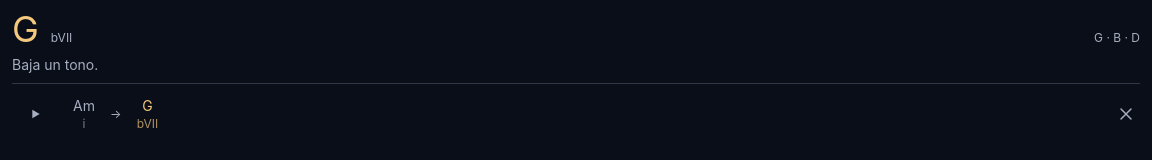
it: El acorde actual › el mismo botón la calla: parar aparte obliga a apuntar a otro sitio
What coordinates should you click on to do the following:
click the button named "escuchar lo que estás probando"
I would click on:
 (35, 114)
Its box is [12,92,58,136].
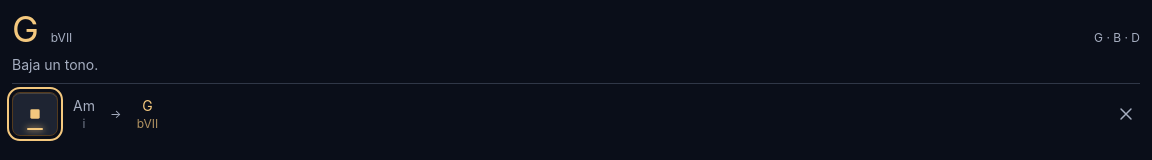
What coordinates should you click on to do the following:
click the button named "parar lo que estás probando"
I would click on:
 (35, 114)
Its box is [12,92,58,136].
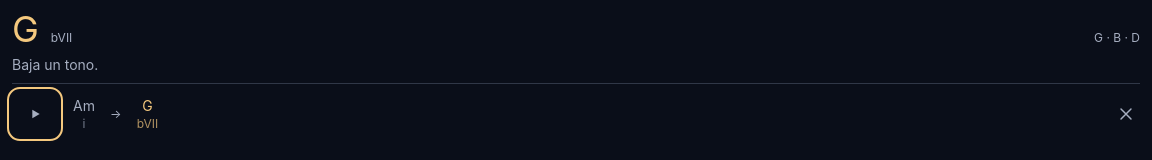
expect the button named "escuchar lo que estás probando" is shown: met, box [12,92,58,136]
